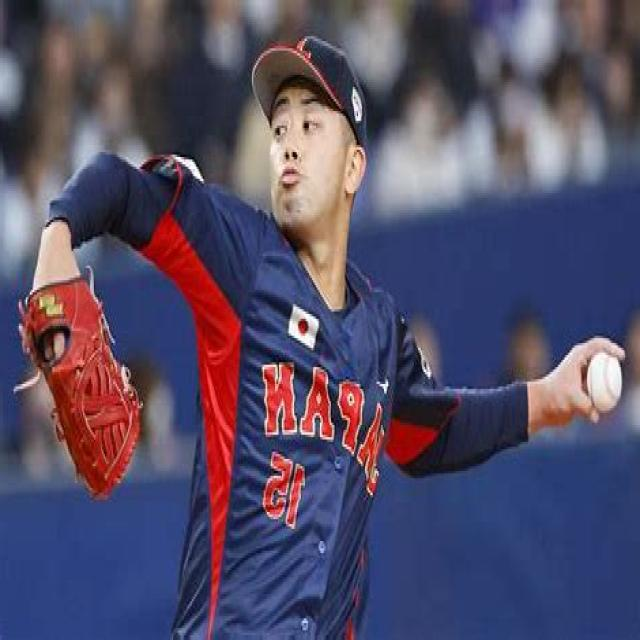ball: (585, 348, 623, 414)
glove: (11, 261, 145, 505)
